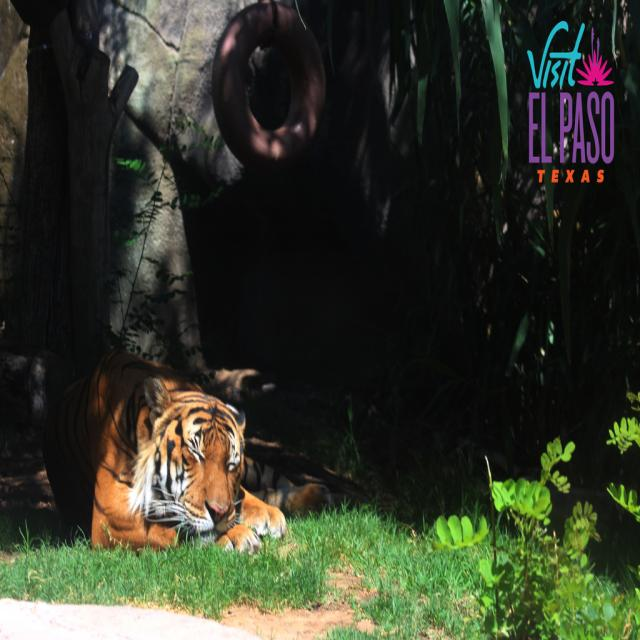Tiger: (43, 344, 373, 550)
